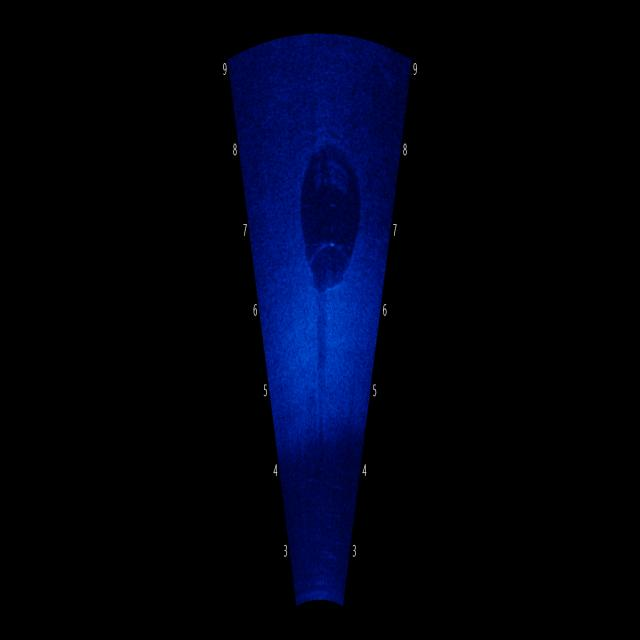circle: (288, 127, 362, 300)
